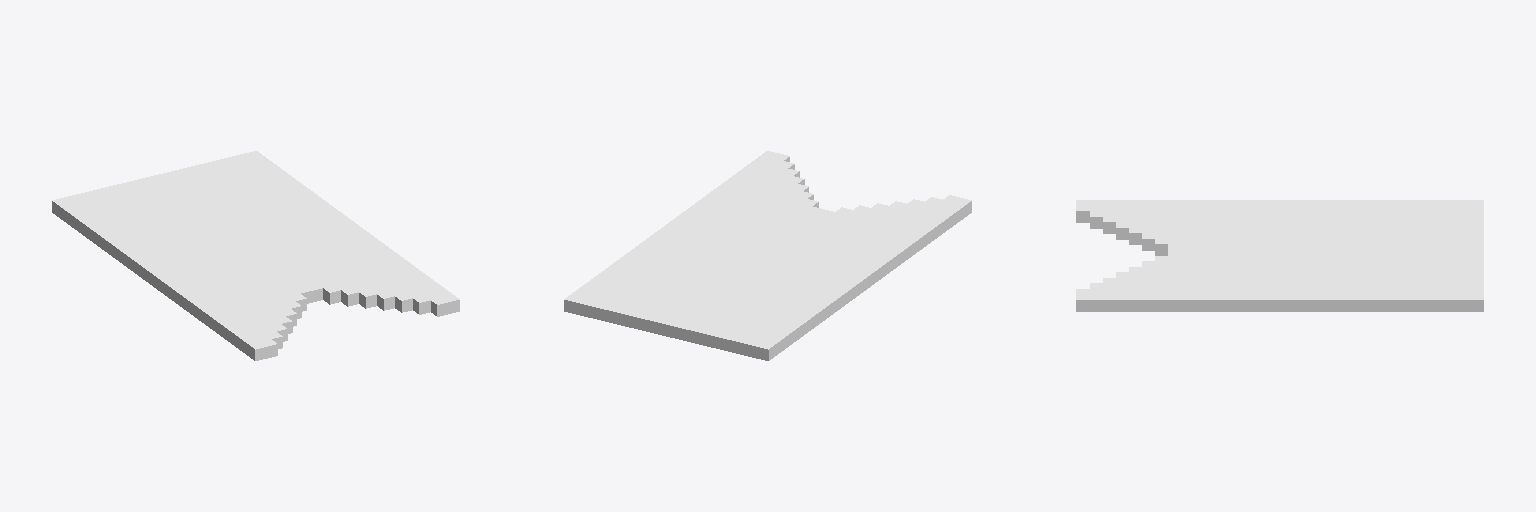
Rendered from Banner1.obj.
3 views of the same model, side by side, from view 1: azimuth 30°, elevation 25°; view 2: azimuth 150°, elevation 25°; view 3: azimuth 270°, elevation 25° (orthographic).
Parts seen in each view (by area): view 1: object 1; view 2: object 1; view 3: object 1.
Part boxes in pixels (left/top/right/bottom): object 1: left=52, top=151, right=459, bottom=360; object 1: left=564, top=151, right=971, bottom=360; object 1: left=1076, top=200, right=1483, bottom=311.
Bounding box in the file's own units: 1.8 × 0.1 × 3.1.